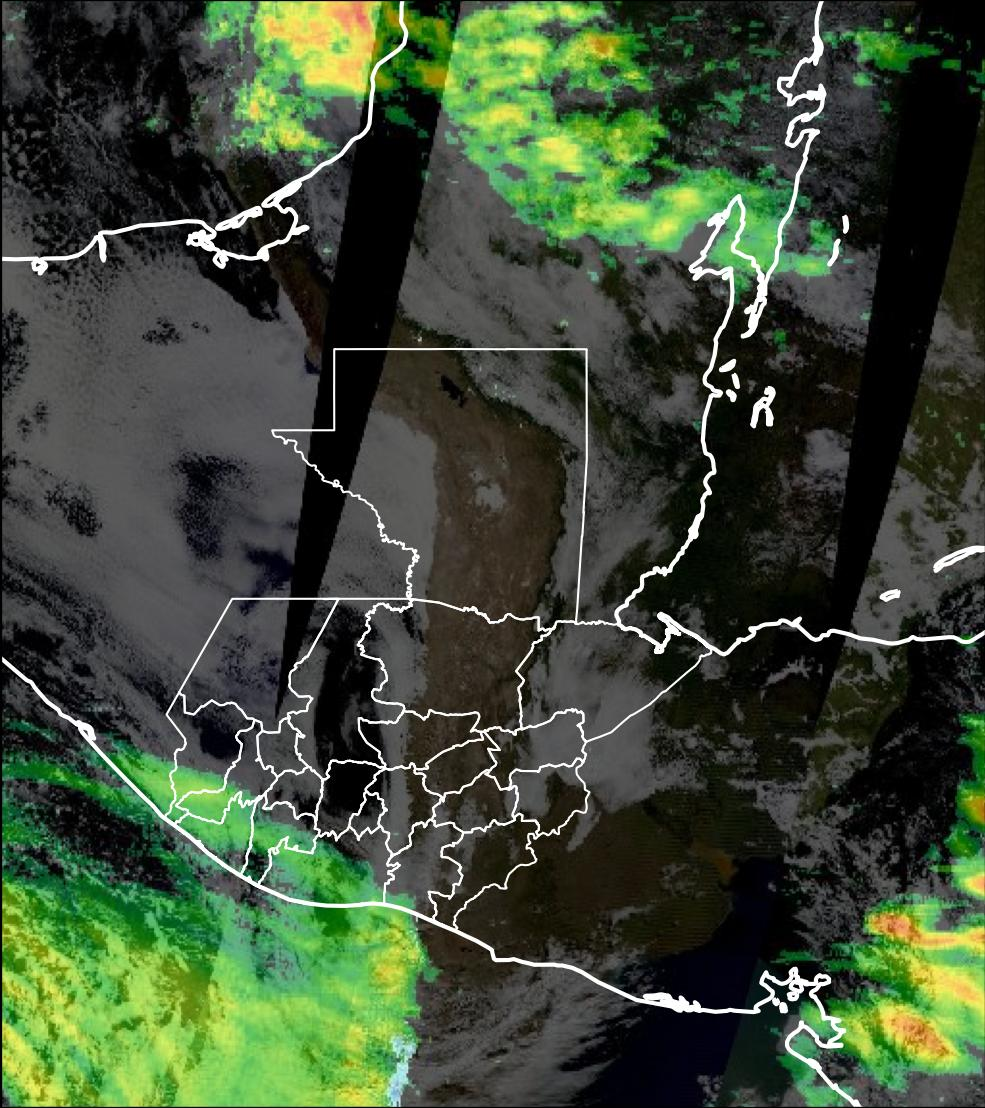precipitacion: (314, 1, 369, 92)
